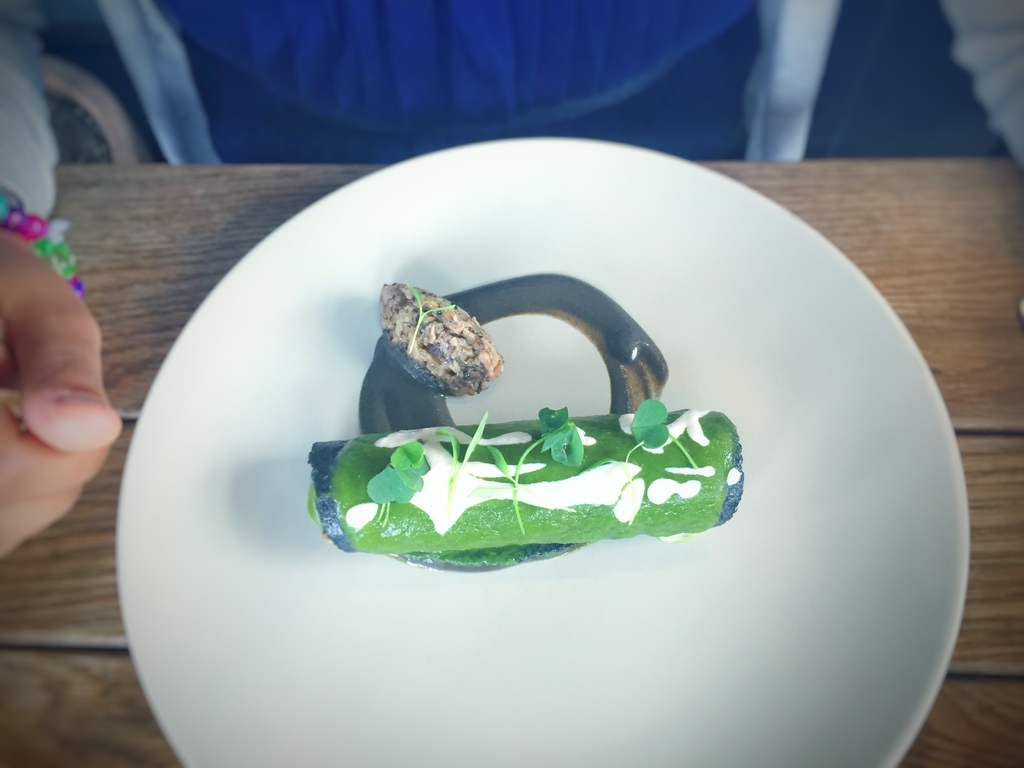plate: (117, 126, 960, 767)
